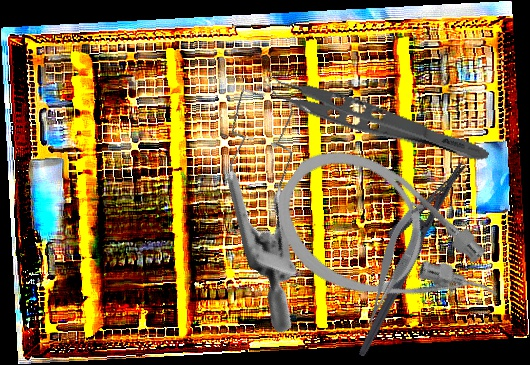Cannula: (253, 125, 523, 365)
Micro Scissor: (348, 197, 437, 330)
Needle Holder: (330, 145, 469, 359)
Speculum: (151, 64, 406, 336)
Tissue Forceps: (257, 64, 496, 167)
